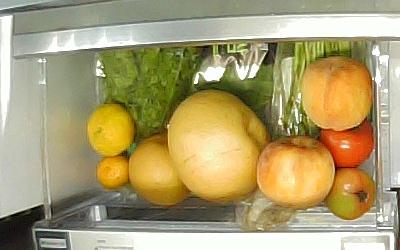peach: (256, 135, 336, 208), (301, 55, 372, 130)
pear: (168, 89, 270, 201), (128, 132, 190, 206)
tangerine: (87, 103, 135, 157), (96, 156, 129, 188)
tomato: (319, 120, 374, 168), (325, 167, 375, 219)
